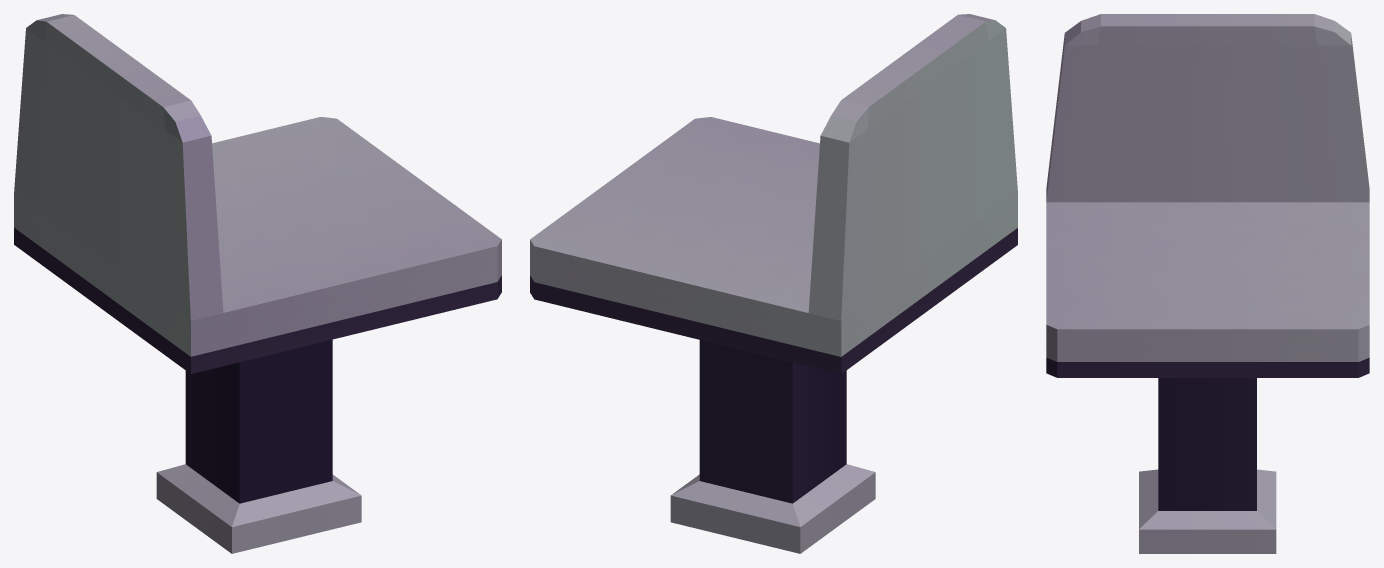
File: Interior_Chair_AlmostStool.fbx
3 renders of one model, left to right at view 1: azimuth 30°, elevation 25°; view 2: azimuth 150°, elevation 25°; view 3: azimuth 270°, elevation 25°, orthographic. The views are drawn at different scales.
Parts seen in each view (by area): view 1: Chair_WhiteStool; view 2: Chair_WhiteStool; view 3: Chair_WhiteStool.
Part boxes in pixels (bbox=[...]): Chair_WhiteStool: bbox=[14, 14, 501, 553]; Chair_WhiteStool: bbox=[530, 14, 1017, 553]; Chair_WhiteStool: bbox=[1046, 14, 1369, 553].
Size of the model in its own units: 36.17 by 52.75 by 34.92.
